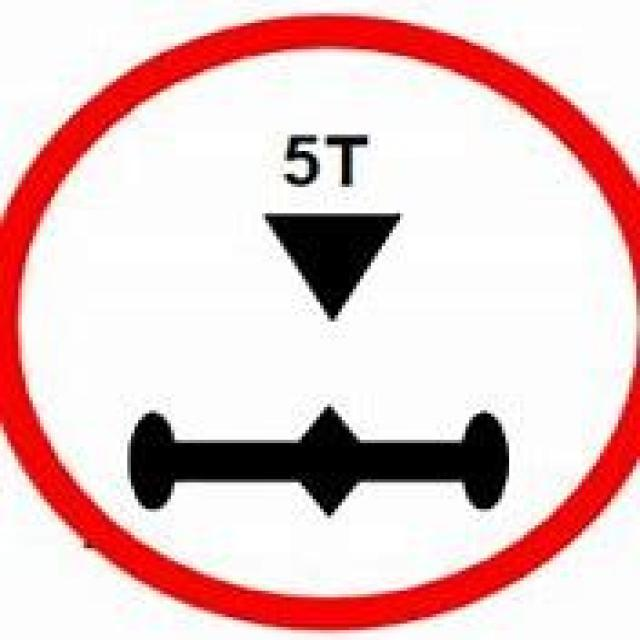axle load limit: (9, 15, 629, 622)
